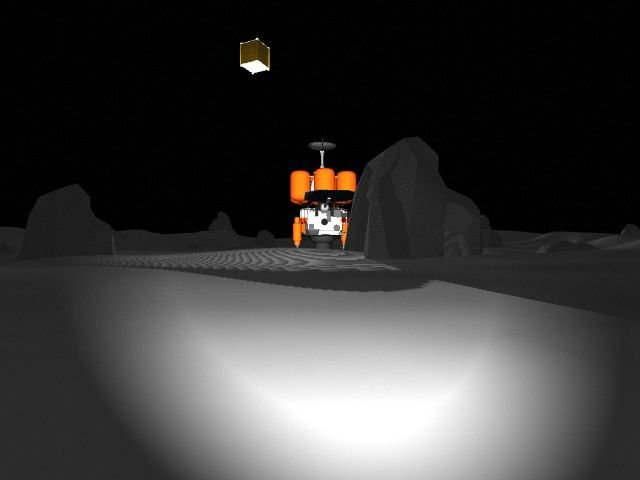cubesat: (231, 34, 276, 84)
